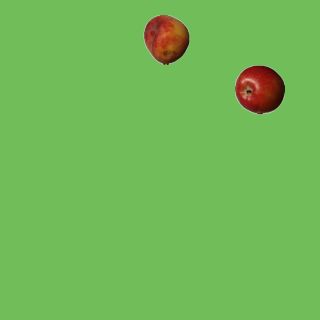Apple Braeburn: (234, 64, 284, 114)
Peach: (141, 14, 191, 64)
